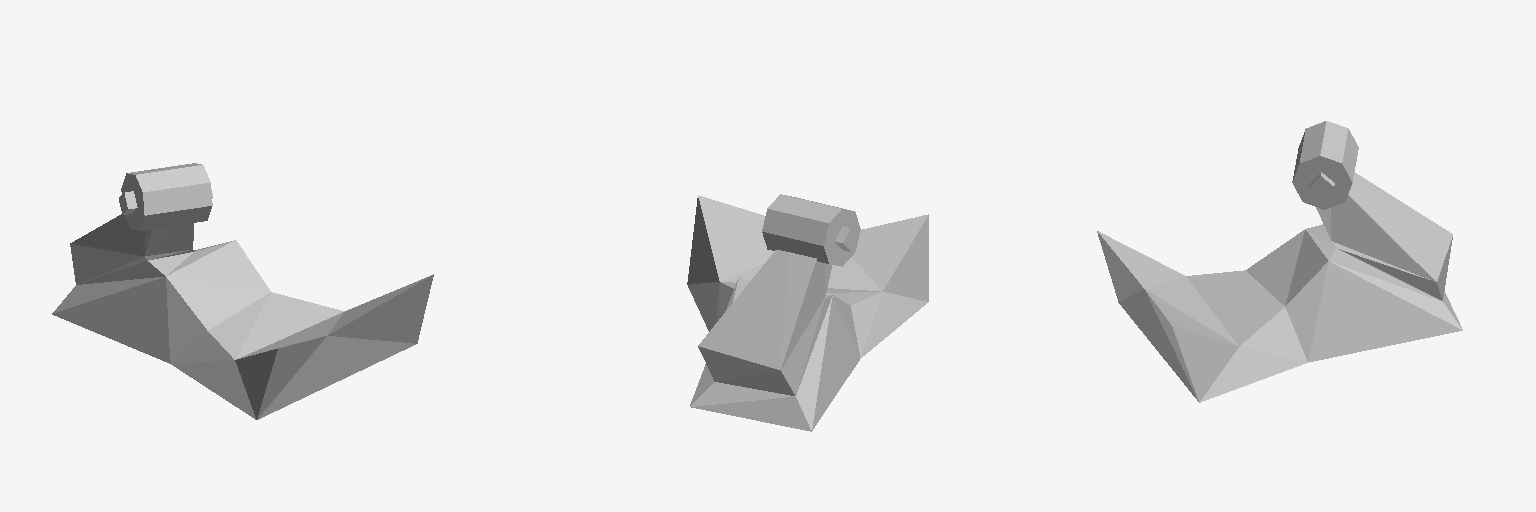
Rendered from leg_l.obj.
3 views of the same model, side by side, from view 1: azimuth 30°, elevation 25°; view 2: azimuth 150°, elevation 25°; view 3: azimuth 270°, elevation 25° (orthographic).
Parts seen in each view (by area): view 1: leg_l:transformblitzcrank_transformblitzcrank; view 2: leg_l:transformblitzcrank_transformblitzcrank; view 3: leg_l:transformblitzcrank_transformblitzcrank.
Part boxes in pixels (x1,y1,x2,y2): leg_l:transformblitzcrank_transformblitzcrank: (52, 163, 433, 419); leg_l:transformblitzcrank_transformblitzcrank: (687, 194, 928, 431); leg_l:transformblitzcrank_transformblitzcrank: (1097, 121, 1462, 402).
Size of the model in its own units: 4.22 by 2.85 by 5.39.